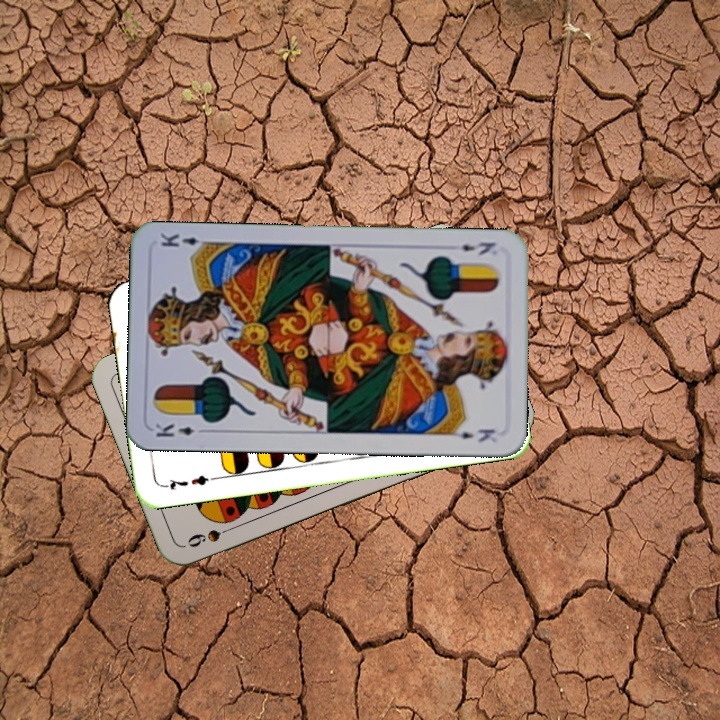E7: (159, 471, 218, 493)
EK: (151, 420, 210, 440), (457, 238, 498, 258)
S9: (183, 520, 240, 550)
